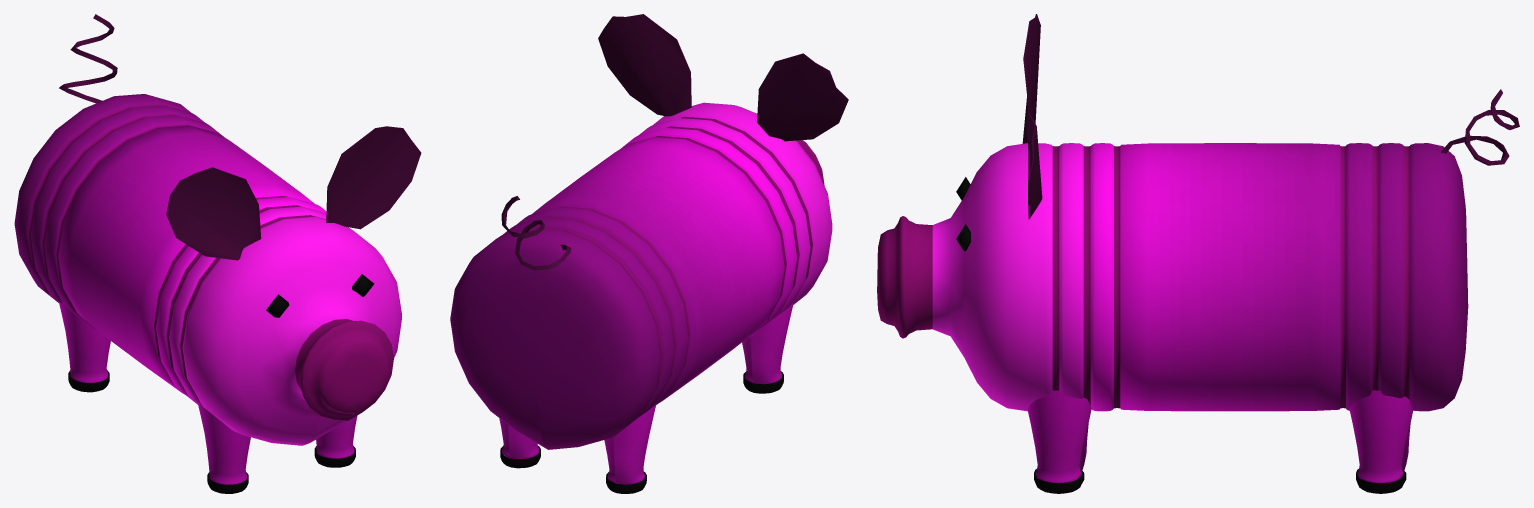
File: Pig.FBX
3 renders of one model, left to right at view 1: azimuth 30°, elevation 25°; view 2: azimuth 150°, elevation 25°; view 3: azimuth 270°, elevation 25°, orthographic. The views are drawn at different scales.
Visible parts, largest first — view 1: Plane005, Plane006, Plane007, Object003, Object004, Object001, Helix001; view 2: Plane005, Plane006, Plane007, Object004, Object003, Helix001, Object002; view 3: Plane005, Object001, Object002, Plane007, Helix001, Plane006.
Part boxes in pixels (x1,y1,x2,y2): Plane005: (14,94,401,445); Plane006: (326,126,421,229); Plane007: (166,167,261,260); Object003: (198,402,250,484); Object004: (59,302,110,382); Object001: (316,416,357,458); Helix001: (59,14,117,103); Plane005: (450,102,832,449); Plane006: (598,14,691,116); Plane007: (757,53,848,141); Object004: (604,404,656,484); Object003: (742,303,793,384); Helix001: (501,196,571,270); Object002: (499,418,539,458); Plane005: (877,143,1468,411); Object001: (1027,390,1091,483); Object002: (1349,390,1413,483); Plane007: (1022,14,1040,143); Helix001: (1441,89,1519,165); Plane006: (1028,113,1042,219).
Bounding box in the file's own units: 9.01 × 11.4 × 17.02.
1 material, 1 textured.
